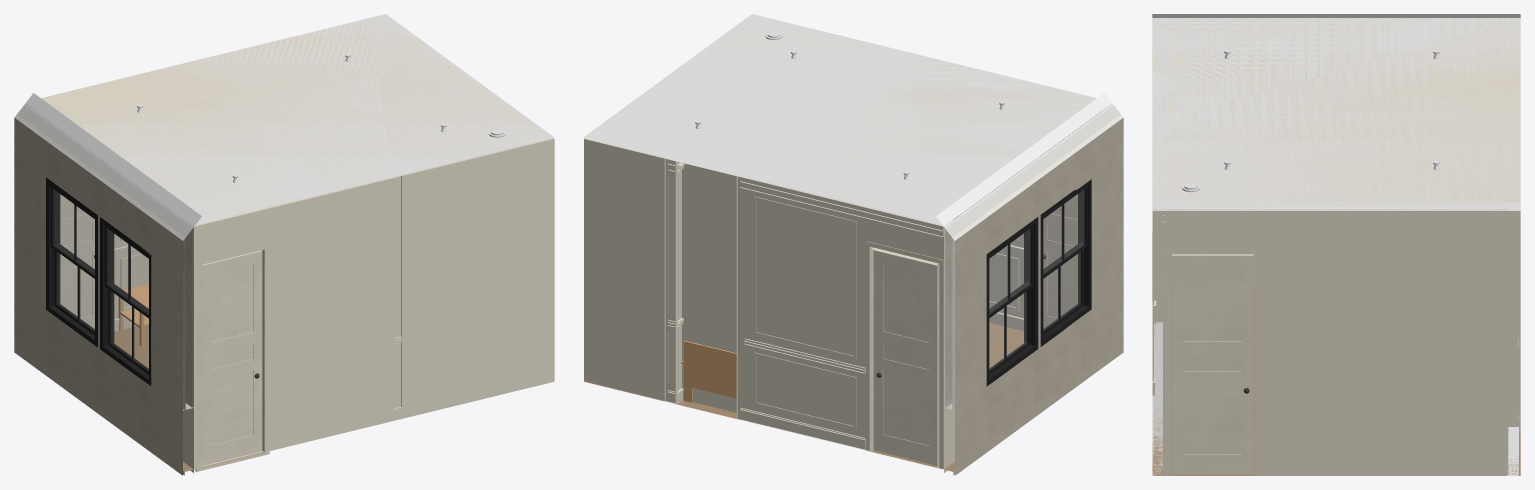
Rendered from green-bedroom-39426591d4f4.glb.
3 views of the same model, side by side, from view 1: azimuth 30°, elevation 25°; view 2: azimuth 150°, elevation 25°; view 3: azimuth 270°, elevation 25° (orthographic). The views are drawn at different scales.
Visible parts, largest first — view 1: green-bedroom-eb02897c2e79e2b1, green-bedroom-e8793759323e04f0, green-bedroom-9d91b47435c6fb33, green-bedroom-312b4ac1be39223d, green-bedroom-7406100458e293ce, green-bedroom-33ee0b466567e5f0, green-bedroom-eea30be35ce76d8a, green-bedroom-b27266f3159d5f34, green-bedroom-5e646f76b0244fe8, green-bedroom-39b94aca90fa4b53, green-bedroom-3a4d9d62ecd7be1c, green-bedroom-442e5a19ed849720 (+5 smaller); view 2: green-bedroom-9d91b47435c6fb33, green-bedroom-b6ab44e8ab2b63f4, green-bedroom-8d8280a2b3ef8b4c, green-bedroom-312b4ac1be39223d, green-bedroom-e8793759323e04f0, green-bedroom-5e646f76b0244fe8, green-bedroom-33ee0b466567e5f0, green-bedroom-689020e0fc226264, green-bedroom-eea30be35ce76d8a, green-bedroom-b27266f3159d5f34, green-bedroom-7406100458e293ce, green-bedroom-4fe5579be934d30a (+10 smaller); view 3: green-bedroom-64efeecf845bccca, green-bedroom-9d91b47435c6fb33, green-bedroom-e8793759323e04f0, green-bedroom-b50904fb6ee0544e, green-bedroom-eb02897c2e79e2b1, green-bedroom-689020e0fc226264, green-bedroom-34287d1b870c745c, green-bedroom-2575515a05775d9e, green-bedroom-442e5a19ed849720, green-bedroom-8d8280a2b3ef8b4c, green-bedroom-4fe5579be934d30a.
Part boxes in pixels (x1=…): green-bedroom-eb02897c2e79e2b1: x1=188, y1=139, x2=554, y2=469; green-bedroom-e8793759323e04f0: x1=27, y1=14, x2=552, y2=224; green-bedroom-9d91b47435c6fb33: x1=25, y1=14, x2=554, y2=226; green-bedroom-312b4ac1be39223d: x1=14, y1=116, x2=184, y2=409; green-bedroom-7406100458e293ce: x1=202, y1=250, x2=262, y2=465; green-bedroom-33ee0b466567e5f0: x1=14, y1=287, x2=193, y2=475; green-bedroom-eea30be35ce76d8a: x1=46, y1=177, x2=97, y2=347; green-bedroom-b27266f3159d5f34: x1=100, y1=217, x2=151, y2=386; green-bedroom-5e646f76b0244fe8: x1=60, y1=138, x2=100, y2=328; green-bedroom-39b94aca90fa4b53: x1=17, y1=105, x2=192, y2=409; green-bedroom-3a4d9d62ecd7be1c: x1=24, y1=103, x2=193, y2=407; green-bedroom-442e5a19ed849720: x1=201, y1=247, x2=266, y2=467; green-bedroom-9d91b47435c6fb33: x1=583, y1=14, x2=1112, y2=226; green-bedroom-b6ab44e8ab2b63f4: x1=736, y1=176, x2=949, y2=469; green-bedroom-8d8280a2b3ef8b4c: x1=584, y1=138, x2=681, y2=403; green-bedroom-312b4ac1be39223d: x1=953, y1=116, x2=1123, y2=409; green-bedroom-e8793759323e04f0: x1=585, y1=15, x2=1110, y2=224; green-bedroom-5e646f76b0244fe8: x1=873, y1=250, x2=937, y2=465; green-bedroom-33ee0b466567e5f0: x1=944, y1=287, x2=1123, y2=475; green-bedroom-689020e0fc226264: x1=676, y1=160, x2=737, y2=418; green-bedroom-eea30be35ce76d8a: x1=986, y1=217, x2=1038, y2=386; green-bedroom-b27266f3159d5f34: x1=1040, y1=179, x2=1091, y2=346; green-bedroom-7406100458e293ce: x1=1039, y1=137, x2=1077, y2=328; green-bedroom-4fe5579be934d30a: x1=664, y1=158, x2=676, y2=403; green-bedroom-64efeecf845bccca: x1=1163, y1=209, x2=1508, y2=475; green-bedroom-9d91b47435c6fb33: x1=1152, y1=18, x2=1520, y2=210; green-bedroom-e8793759323e04f0: x1=1152, y1=14, x2=1520, y2=209; green-bedroom-b50904fb6ee0544e: x1=1171, y1=254, x2=1253, y2=474; green-bedroom-eb02897c2e79e2b1: x1=1152, y1=209, x2=1164, y2=475; green-bedroom-689020e0fc226264: x1=1508, y1=211, x2=1518, y2=426; green-bedroom-34287d1b870c745c: x1=1169, y1=252, x2=1256, y2=475; green-bedroom-2575515a05775d9e: x1=1152, y1=284, x2=1520, y2=475; green-bedroom-442e5a19ed849720: x1=1156, y1=211, x2=1162, y2=322; green-bedroom-8d8280a2b3ef8b4c: x1=1507, y1=209, x2=1518, y2=475; green-bedroom-4fe5579be934d30a: x1=1519, y1=211, x2=1520, y2=432.
Bounding box in the file's own units: 4.64 × 3.04 × 3.65.
26 materials, 5 textured.
